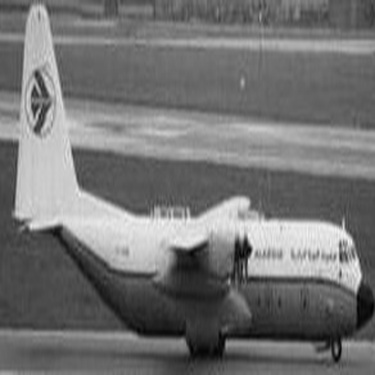airplane: (8, 5, 368, 372)
